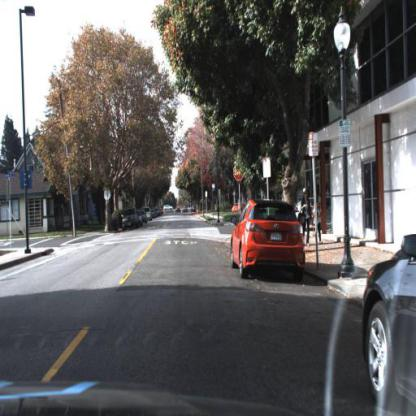car: (362, 231, 416, 416), (228, 194, 315, 291), (121, 206, 142, 233), (232, 202, 242, 215), (138, 212, 144, 228), (147, 205, 152, 221), (142, 211, 147, 226)
pedestrian: (299, 184, 313, 245), (313, 196, 325, 246)
